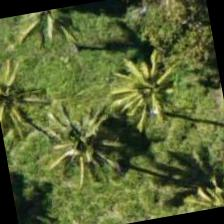Kelapa_Sawit: (33, 94, 138, 198), (96, 36, 201, 140), (0, 44, 56, 143)
